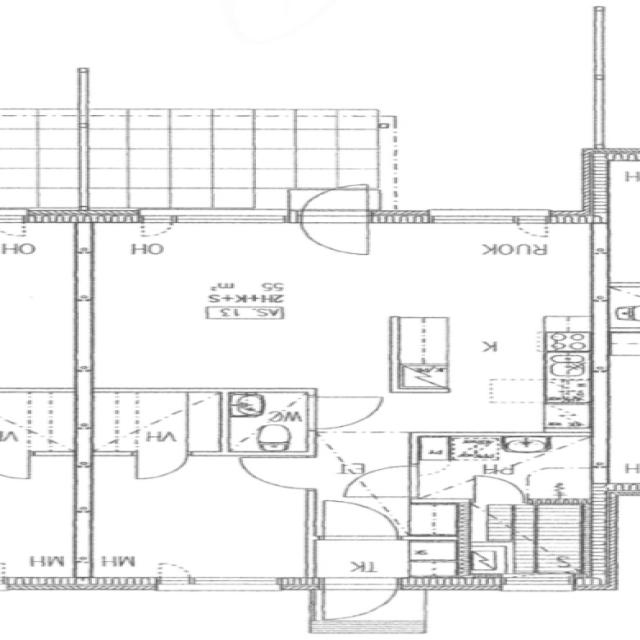door: (292, 184, 376, 259), (314, 578, 401, 626), (313, 496, 402, 542), (306, 392, 392, 434), (230, 454, 312, 491), (338, 463, 418, 500), (463, 473, 530, 506), (128, 453, 190, 482), (135, 210, 178, 241), (151, 559, 196, 586), (508, 214, 554, 240), (412, 460, 453, 478)
window: (166, 208, 294, 232), (424, 209, 532, 230), (182, 574, 288, 592), (497, 576, 575, 594), (508, 214, 554, 240)
zone: (73, 221, 403, 393), (386, 226, 595, 438), (73, 455, 314, 581), (408, 434, 596, 502), (465, 500, 607, 582), (88, 390, 222, 455), (307, 537, 466, 584), (218, 390, 313, 456), (0, 388, 77, 454)
